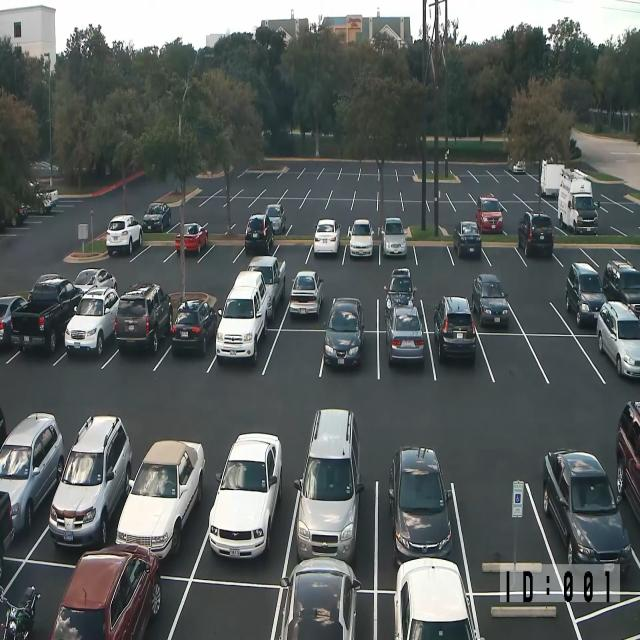space-empty: (457, 460, 548, 595), (165, 576, 274, 639), (535, 333, 594, 391), (484, 332, 540, 393), (268, 328, 323, 384), (327, 280, 378, 330), (419, 282, 472, 330), (512, 287, 561, 335), (484, 232, 522, 272), (414, 231, 451, 270), (206, 233, 242, 268), (554, 237, 591, 270), (584, 240, 626, 267), (137, 238, 172, 270), (274, 235, 310, 262), (591, 200, 614, 236), (500, 208, 530, 234), (350, 214, 378, 236), (322, 216, 350, 236), (415, 211, 442, 230), (526, 198, 553, 216), (292, 209, 320, 224), (353, 196, 377, 212), (496, 173, 520, 189), (331, 184, 356, 199), (452, 197, 477, 212), (252, 199, 277, 214), (384, 215, 406, 232), (281, 196, 303, 212), (354, 186, 379, 200), (303, 197, 328, 211), (241, 186, 262, 202), (229, 197, 254, 210), (206, 195, 229, 209), (448, 188, 472, 201), (495, 188, 517, 202), (452, 165, 475, 178), (490, 163, 511, 177), (470, 187, 494, 199), (260, 185, 282, 198), (402, 200, 422, 214), (378, 188, 401, 200), (182, 196, 205, 208), (308, 186, 332, 197), (434, 200, 454, 213), (400, 188, 421, 200), (240, 174, 261, 186), (359, 163, 379, 175), (421, 188, 441, 200), (330, 198, 351, 209), (219, 186, 236, 199), (378, 202, 405, 210), (337, 172, 358, 182), (474, 172, 495, 182), (325, 162, 341, 175), (260, 170, 280, 180), (286, 188, 310, 196), (437, 169, 453, 181), (319, 170, 338, 180), (378, 164, 397, 174), (305, 161, 324, 171), (396, 163, 416, 172), (342, 165, 362, 174), (300, 171, 319, 180), (283, 168, 302, 177), (379, 174, 399, 182), (358, 175, 379, 182), (396, 175, 415, 182)
space-occupied: (294, 448, 374, 584), (128, 435, 207, 568), (376, 462, 458, 589), (206, 452, 289, 574), (54, 426, 130, 554), (63, 560, 170, 640), (547, 458, 624, 568), (0, 420, 60, 552), (0, 556, 65, 639), (276, 586, 368, 640), (433, 331, 488, 391), (214, 326, 270, 383), (593, 324, 639, 391), (241, 262, 288, 326), (379, 331, 432, 387), (324, 330, 377, 385), (560, 275, 609, 332), (163, 328, 215, 380), (286, 268, 330, 328), (60, 330, 116, 374), (470, 280, 514, 334), (16, 323, 65, 370), (114, 332, 165, 377), (378, 280, 421, 327), (518, 225, 559, 273), (450, 226, 486, 271), (556, 201, 597, 240), (380, 225, 413, 269), (174, 226, 208, 268), (345, 231, 378, 269), (241, 223, 272, 262), (309, 233, 344, 267), (112, 233, 142, 264), (143, 210, 171, 237), (538, 182, 558, 203)
